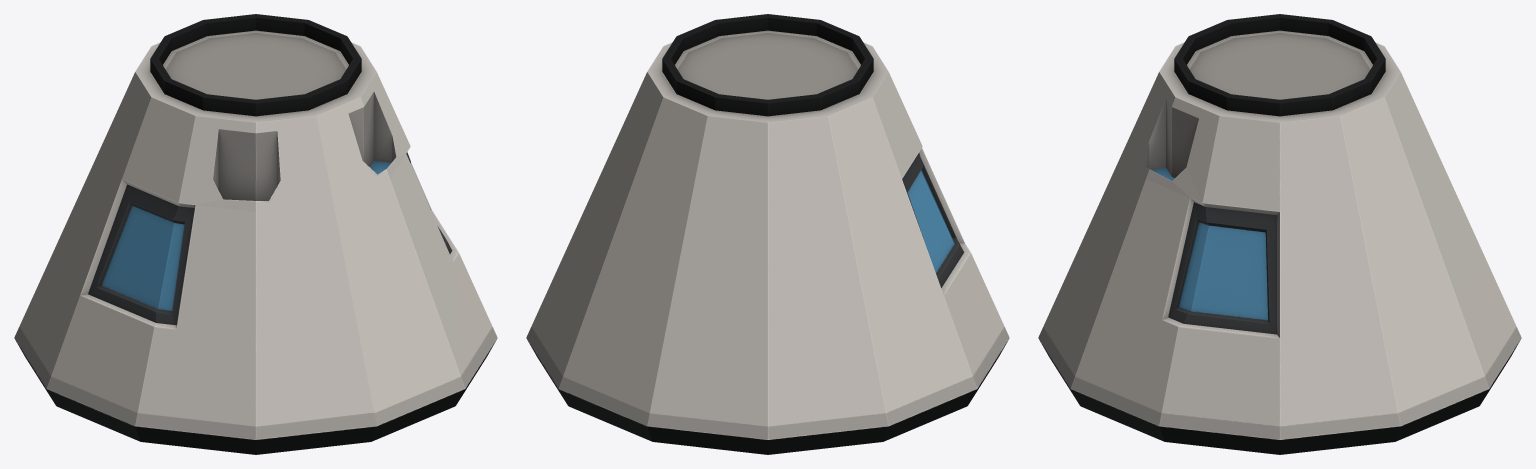
The picture shows the model from 3 angles, left to right: view 1: azimuth 30°, elevation 25°; view 2: azimuth 150°, elevation 25°; view 3: azimuth 270°, elevation 25°; orthographic projection.
Visible parts, largest first — view 1: Mk12CommandPod_mesh; view 2: Mk12CommandPod_mesh; view 3: Mk12CommandPod_mesh.
Part boxes in pixels (<box>): Mk12CommandPod_mesh: <box>14,14,497,454</box>; Mk12CommandPod_mesh: <box>526,14,1009,454</box>; Mk12CommandPod_mesh: <box>1038,14,1521,454</box>.
Bounding box in the file's own units: 4.09 × 3.04 × 4.09.
1 material, 1 textured.
